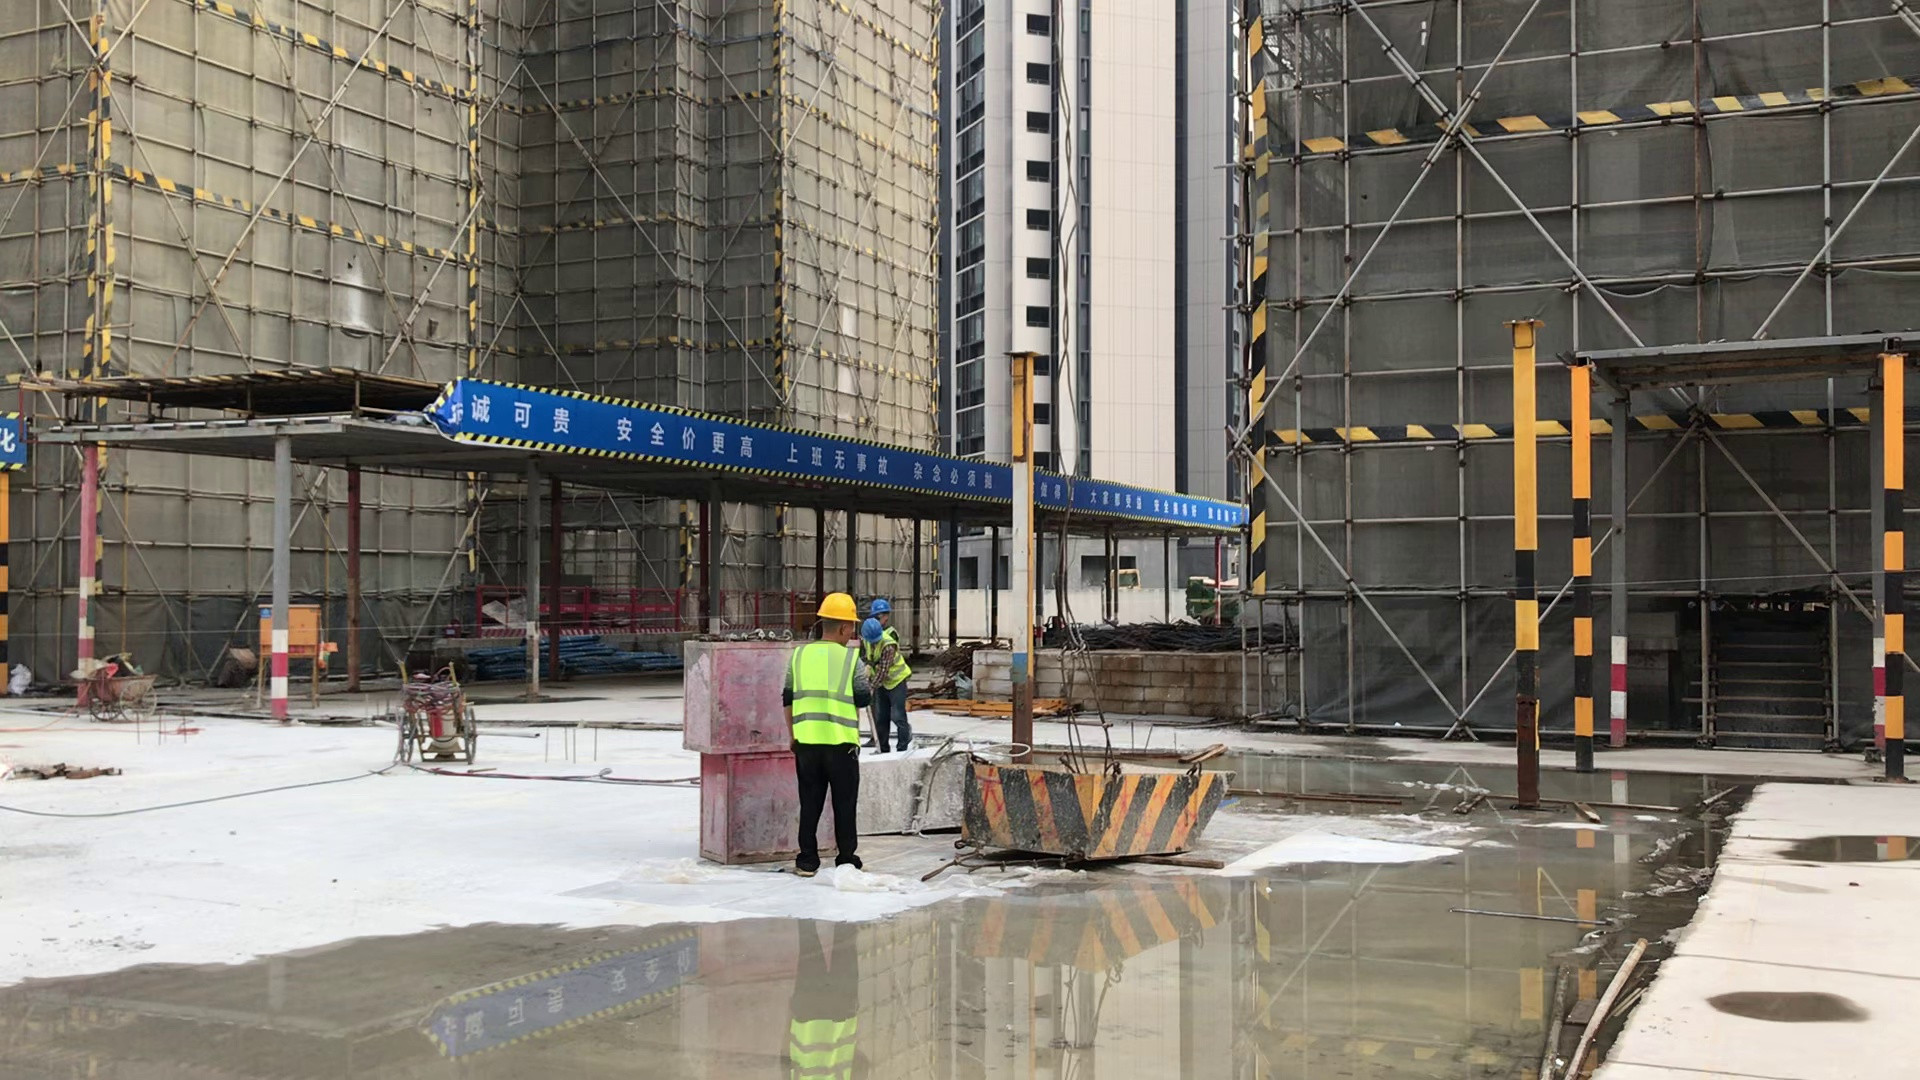ebox: (254, 603, 319, 649)
fence: (479, 579, 823, 629)
handcart: (394, 660, 481, 765)
helmet: (817, 592, 858, 623), (861, 618, 883, 642), (870, 597, 889, 617)
hopper: (969, 756, 1233, 866), (861, 741, 986, 833)
person: (782, 591, 875, 881), (860, 618, 910, 756)
slogan: (447, 377, 1239, 530)
vest: (789, 646, 861, 748), (865, 633, 909, 690)
